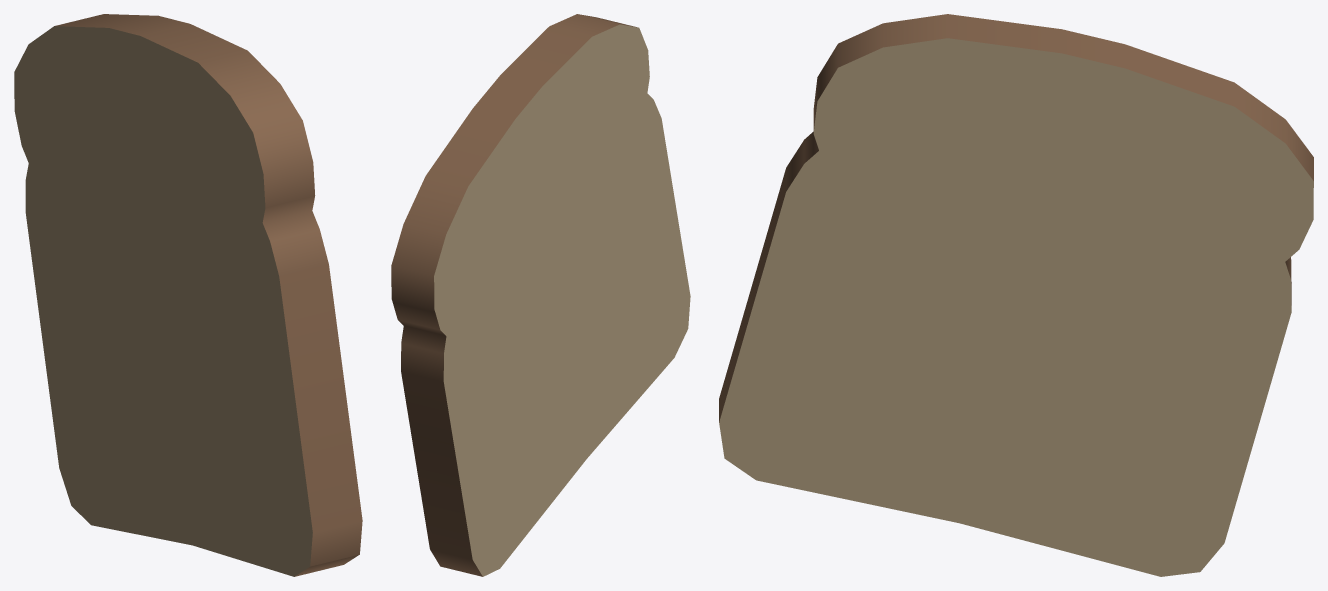
Rendered from Toast1.fbx.
3 views of the same model, side by side, from view 1: azimuth 30°, elevation 25°; view 2: azimuth 150°, elevation 25°; view 3: azimuth 270°, elevation 25° (orthographic). The views are drawn at different scales.
Parts seen in each view (by area): view 1: pasted__pCube14; view 2: pasted__pCube14; view 3: pasted__pCube14.
Part boxes in pixels (x1,y1,x2,y2): pasted__pCube14: [14, 14, 362, 576]; pasted__pCube14: [391, 14, 690, 576]; pasted__pCube14: [719, 14, 1313, 576].
Size of the model in its own units: 0.0683 by 0.7094 by 0.7098.
